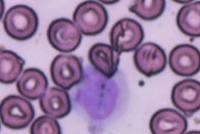M: (71, 64, 133, 132)
